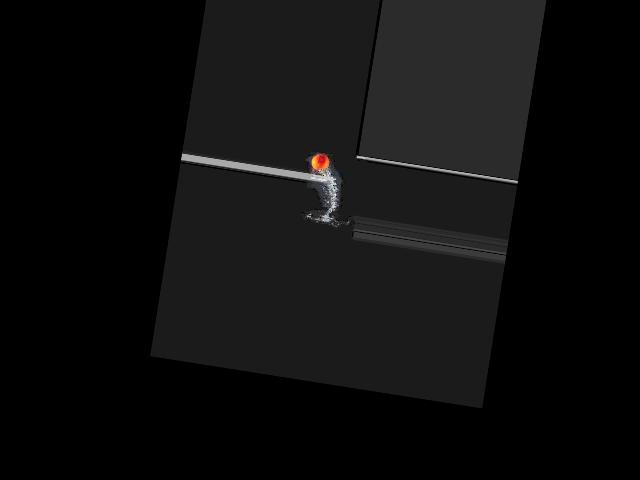tomato: (310, 153, 330, 171)
